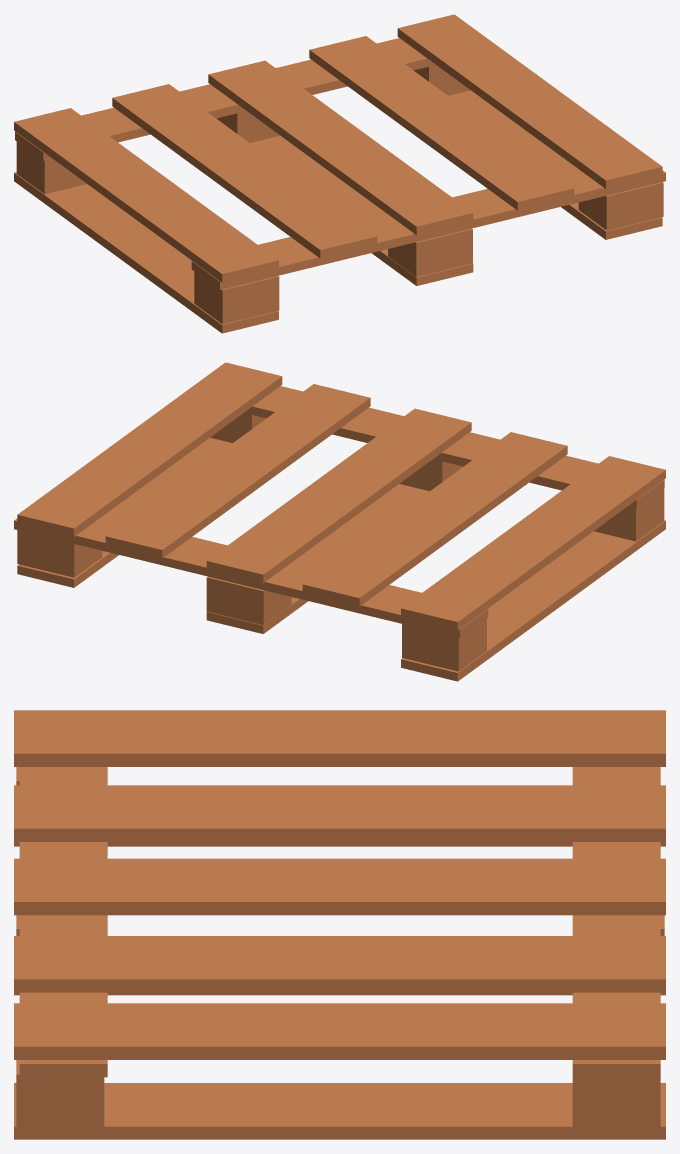
Rendered from pallet_01_broken.fbx.
3 renders of one model, top to bottom at view 1: azimuth 30°, elevation 25°; view 2: azimuth 150°, elevation 25°; view 3: azimuth 270°, elevation 25°, orthographic. The views are drawn at different scales.
Parts seen in each view (by area): view 1: pallet-01_Part_2, pallet-01_Part_4, pallet-01_Part_1, pallet-01_Part_7, pallet-01_Part_8, pallet-01_Part_5, pallet-01_Part_3, pallet-01_Part_6, pallet-01_Part_9; view 2: pallet-01_Part_2, pallet-01_Part_4, pallet-01_Part_8, pallet-01_Part_1, pallet-01_Part_5, pallet-01_Part_7, pallet-01_Part_3, pallet-01_Part_9; view 3: pallet-01_Part_2, pallet-01_Part_7, pallet-01_Part_4, pallet-01_Part_5, pallet-01_Part_1, pallet-01_Part_8, pallet-01_Part_3, pallet-01_Part_9.
Boxes of the visible parts, x1=… form: pallet-01_Part_2: x1=351, y1=14, x2=598, y2=172; pallet-01_Part_4: x1=129, y1=36, x2=368, y2=200; pallet-01_Part_1: x1=115, y1=171, x2=332, y2=333; pallet-01_Part_7: x1=442, y1=120, x2=665, y2=239; pallet-01_Part_8: x1=14, y1=94, x2=214, y2=254; pallet-01_Part_5: x1=222, y1=148, x2=469, y2=263; pallet-01_Part_3: x1=321, y1=202, x2=489, y2=270; pallet-01_Part_6: x1=386, y1=221, x2=490, y2=285; pallet-01_Part_9: x1=325, y1=114, x2=391, y2=153; pallet-01_Part_2: x1=14, y1=409, x2=295, y2=587; pallet-01_Part_4: x1=102, y1=495, x2=458, y2=633; pallet-01_Part_8: x1=343, y1=524, x2=562, y2=681; pallet-01_Part_1: x1=456, y1=443, x2=665, y2=607; pallet-01_Part_5: x1=334, y1=419, x2=541, y2=544; pallet-01_Part_7: x1=162, y1=362, x2=394, y2=470; pallet-01_Part_3: x1=388, y1=408, x2=556, y2=471; pallet-01_Part_9: x1=280, y1=468, x2=356, y2=507; pallet-01_Part_2: x1=212, y1=936, x2=665, y2=1139; pallet-01_Part_7: x1=14, y1=923, x2=249, y2=1139; pallet-01_Part_4: x1=337, y1=786, x2=665, y2=995; pallet-01_Part_5: x1=52, y1=790, x2=342, y2=995; pallet-01_Part_1: x1=14, y1=710, x2=355, y2=846; pallet-01_Part_8: x1=337, y1=710, x2=665, y2=846; pallet-01_Part_3: x1=14, y1=793, x2=60, y2=935; pallet-01_Part_9: x1=267, y1=867, x2=436, y2=915.
Size of the model in its own units: 110 by 14 by 88.9.
Materials: 1 (1 with a texture image).
